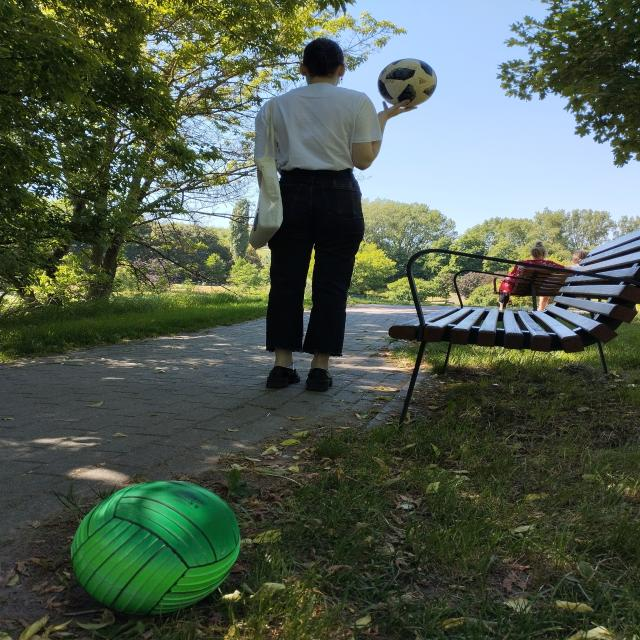nozna: (378, 59, 437, 108)
zielona: (71, 480, 241, 616)
